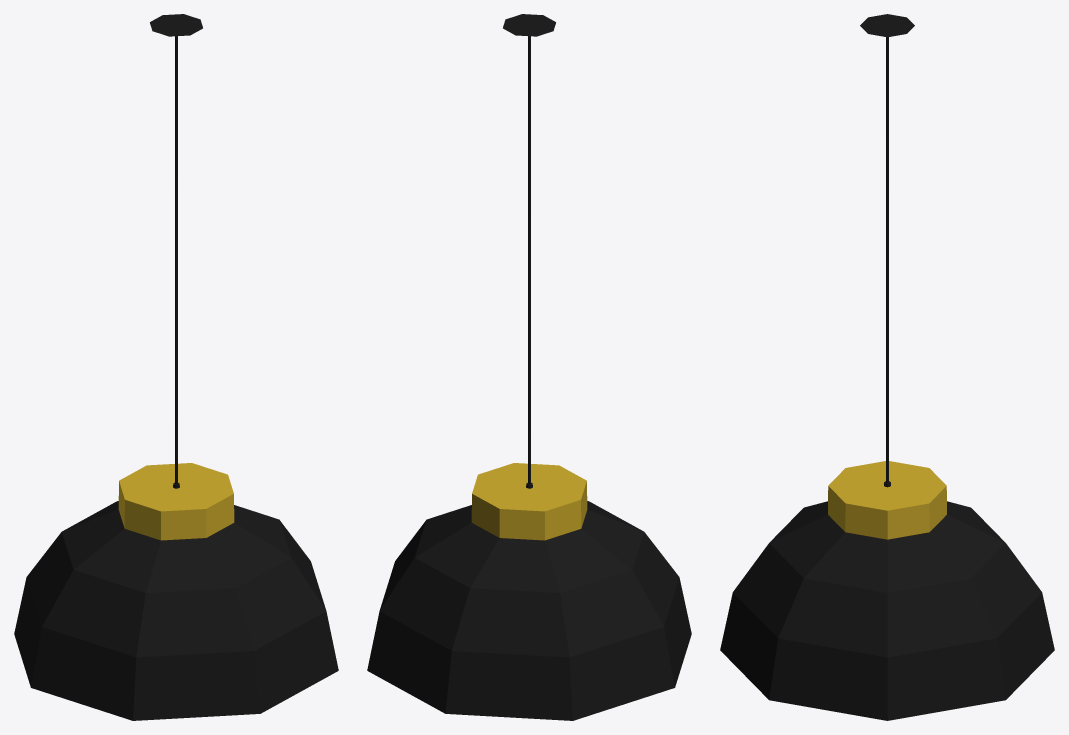
File: cnlounge_lamp1.fbx
The picture shows the model from 3 angles, left to right: view 1: azimuth 30°, elevation 25°; view 2: azimuth 150°, elevation 25°; view 3: azimuth 270°, elevation 25°; orthographic projection.
Visible parts, largest first — view 1: cnlounge_lamp1; view 2: cnlounge_lamp1; view 3: cnlounge_lamp1.
Boxes of the visible parts, box(x1,y1,x2,y2) form: cnlounge_lamp1: box(14, 14, 338, 720); cnlounge_lamp1: box(367, 14, 691, 720); cnlounge_lamp1: box(720, 14, 1054, 720).
Bounding box in the file's own units: 0.00509 × 0.0105 × 0.00509.
Materials: 1 (1 with a texture image).
